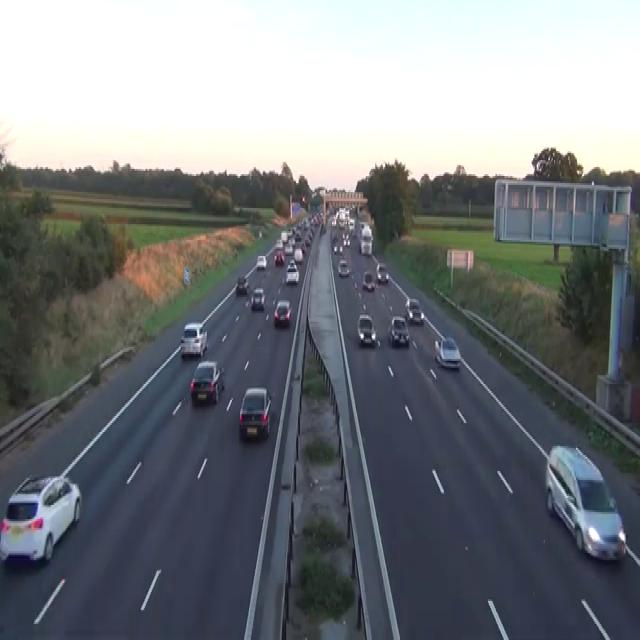Car: (545, 444, 626, 562), (0, 473, 82, 565), (238, 386, 271, 441), (189, 359, 225, 405), (180, 322, 208, 357), (434, 336, 461, 370), (387, 314, 409, 346), (356, 313, 376, 347), (404, 297, 424, 323), (273, 299, 291, 325), (250, 288, 265, 309), (285, 262, 299, 284), (376, 263, 389, 283), (235, 276, 249, 294), (362, 270, 374, 290), (337, 258, 350, 276), (360, 238, 372, 254), (274, 249, 284, 265), (293, 247, 303, 263), (361, 224, 372, 238), (256, 254, 266, 268), (333, 244, 343, 254), (441, 182, 453, 190), (284, 242, 292, 254), (319, 222, 326, 235), (287, 258, 296, 268), (342, 235, 350, 245), (275, 238, 282, 249), (280, 231, 287, 242), (294, 231, 301, 240), (304, 237, 310, 246), (331, 217, 336, 226), (258, 228, 262, 238), (301, 194, 306, 202)
Truck: (357, 220, 373, 254)
